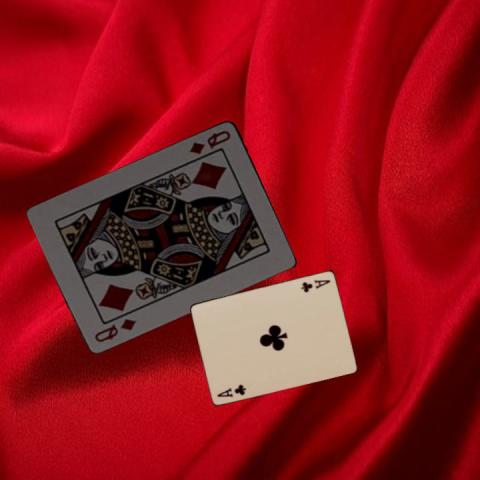Ac: (214, 381, 247, 398), (298, 277, 332, 293)
Qd: (186, 127, 233, 155), (91, 316, 138, 344)
